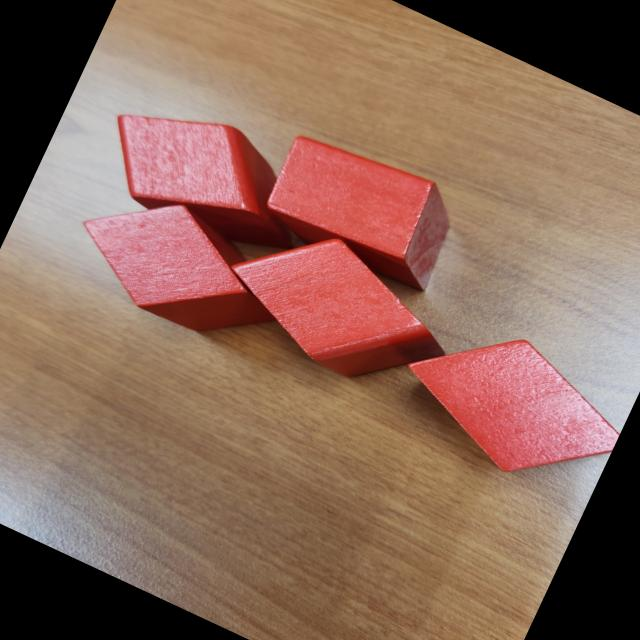red: (208, 200, 472, 412), (381, 298, 638, 510), (59, 168, 307, 364), (85, 81, 332, 276), (254, 121, 469, 300)
